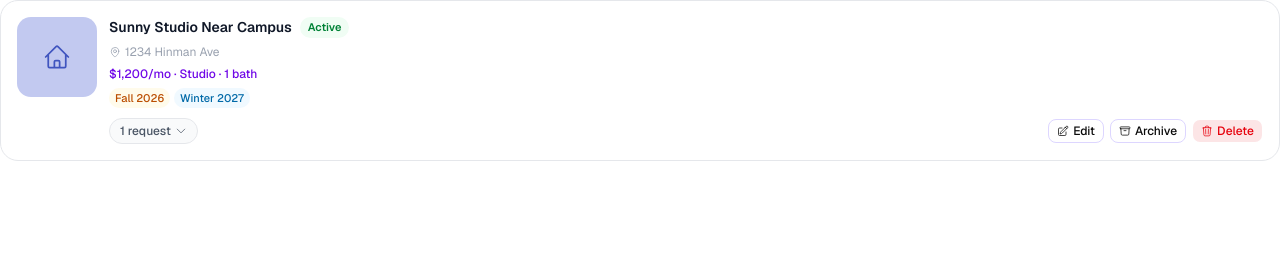
Test: ListingCard › clicking request pill expands inbox; clicking again collapses it
Expected: the text "Kelly Tween" is not shown
// Interact: Click to open
Step 1. Click the button "1 request" → [153, 131], box [109,118,198,144]
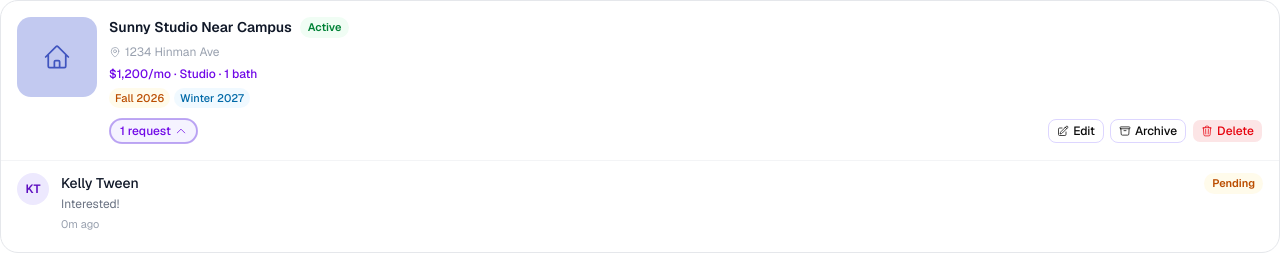
Now the text "Kelly Tween" is shown, box [61,173,139,193]
// Click to close
Step 2. Click the button "1 request" → [153, 131], box [109,118,198,144]
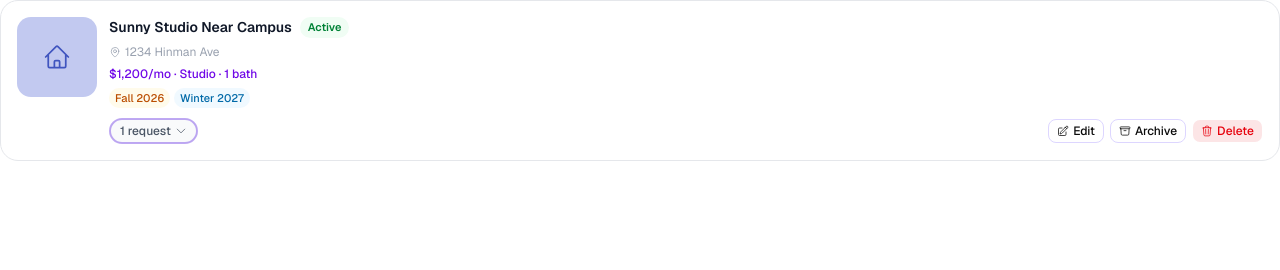
Now the text "Kelly Tween" is gone
